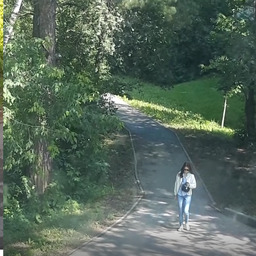person: (174, 161, 195, 231)
